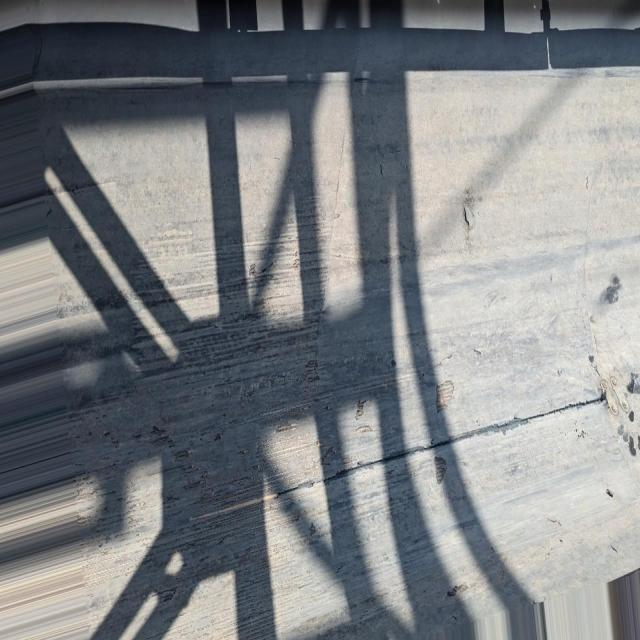Impact Damage: (426, 374, 462, 424), (430, 452, 450, 486)
Tear: (186, 392, 612, 526), (455, 199, 478, 237), (376, 160, 388, 178)
